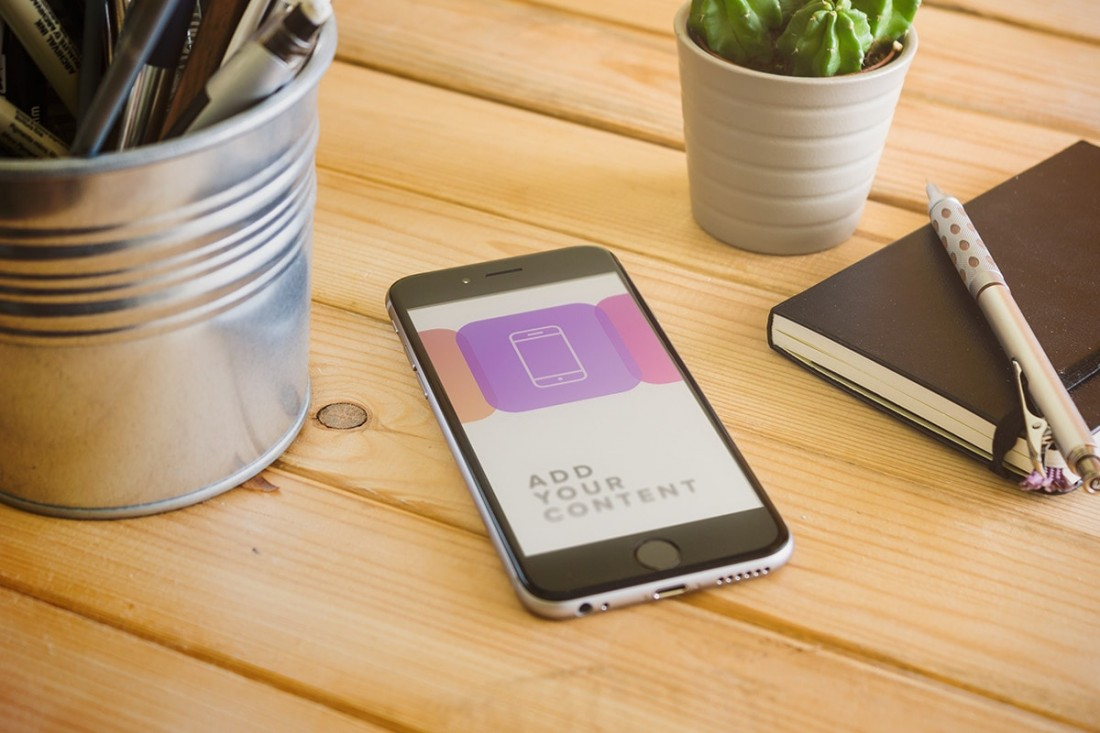Cell Phone: (396, 246, 783, 626)
